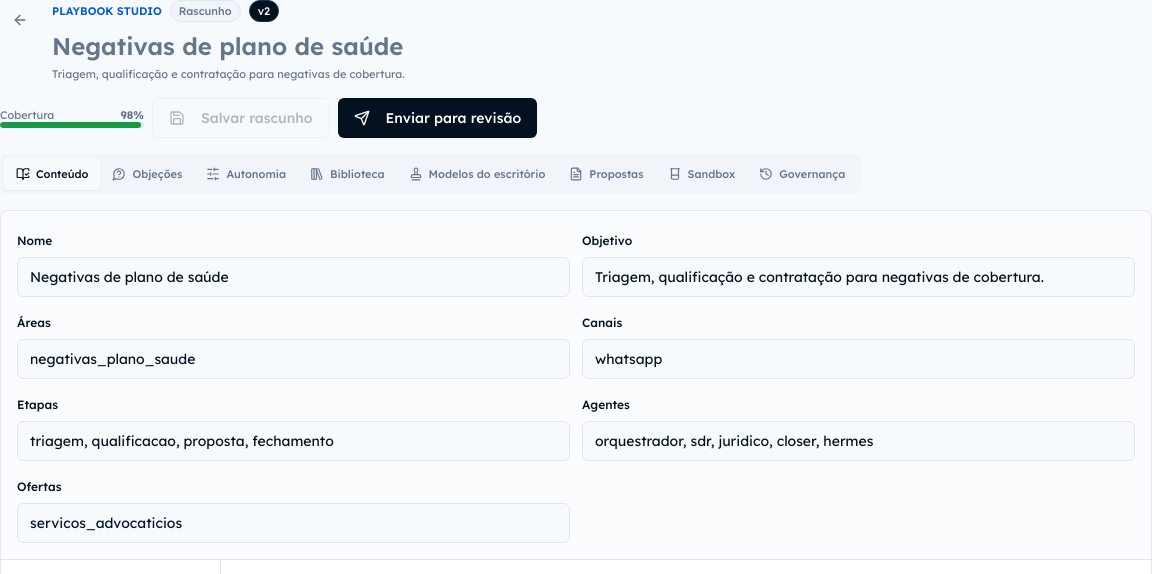
Scenario: PlaybookEditorPage › filters private AI cost data from metrics and historical diffs
Press the mouse on the tab "Governança": (802, 174) [747, 158, 857, 190]
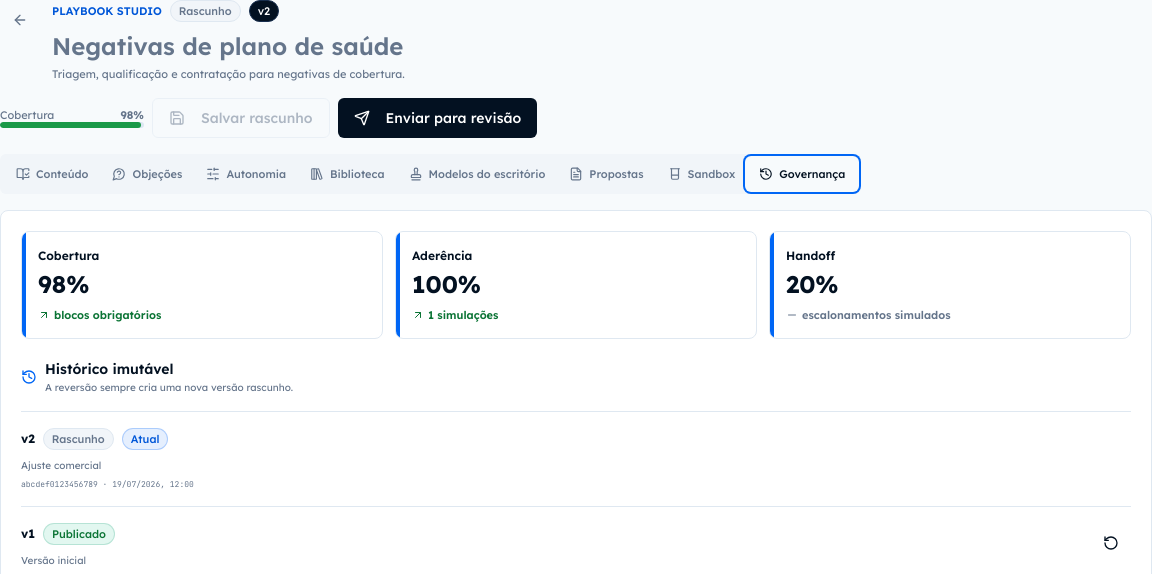
Click the tab "Governança": (802, 174) [747, 158, 857, 190]
(page scrolled)
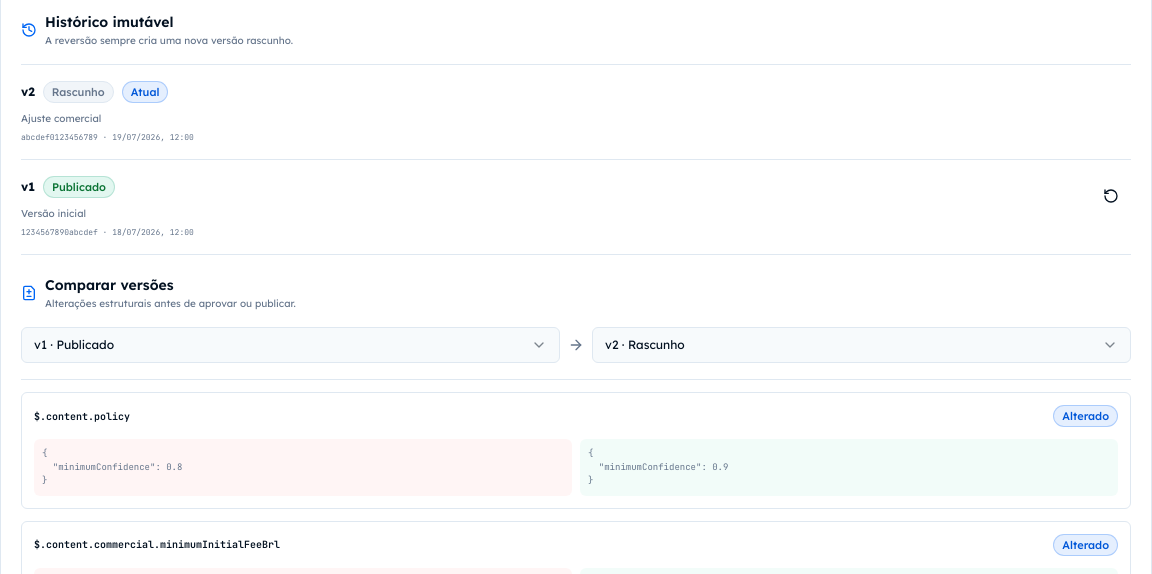
expect the text "$.content.commercial.minimumInitialFeeBrl" is shown: met, box [34, 537, 280, 552]
expect the text "{ \"minimumConfidence\": 0.8 }" is shown 2 times: met, box [34, 439, 572, 496]; [580, 439, 1118, 496]
